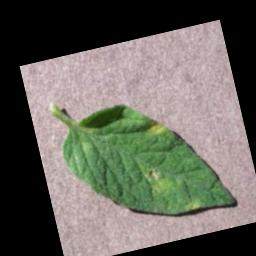Leaf_Mold: (142, 117, 171, 139), (183, 198, 202, 212)
